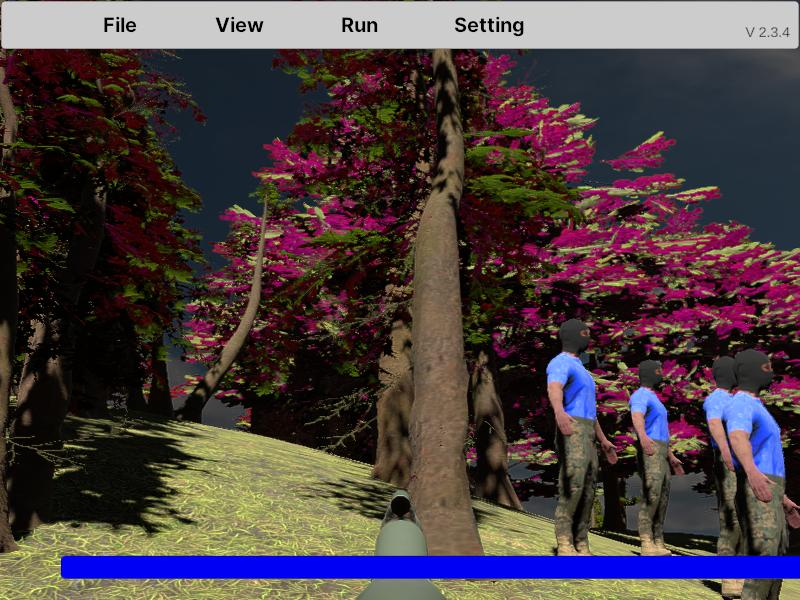Human: (721, 350, 800, 600), (547, 318, 618, 559), (630, 358, 680, 560)
